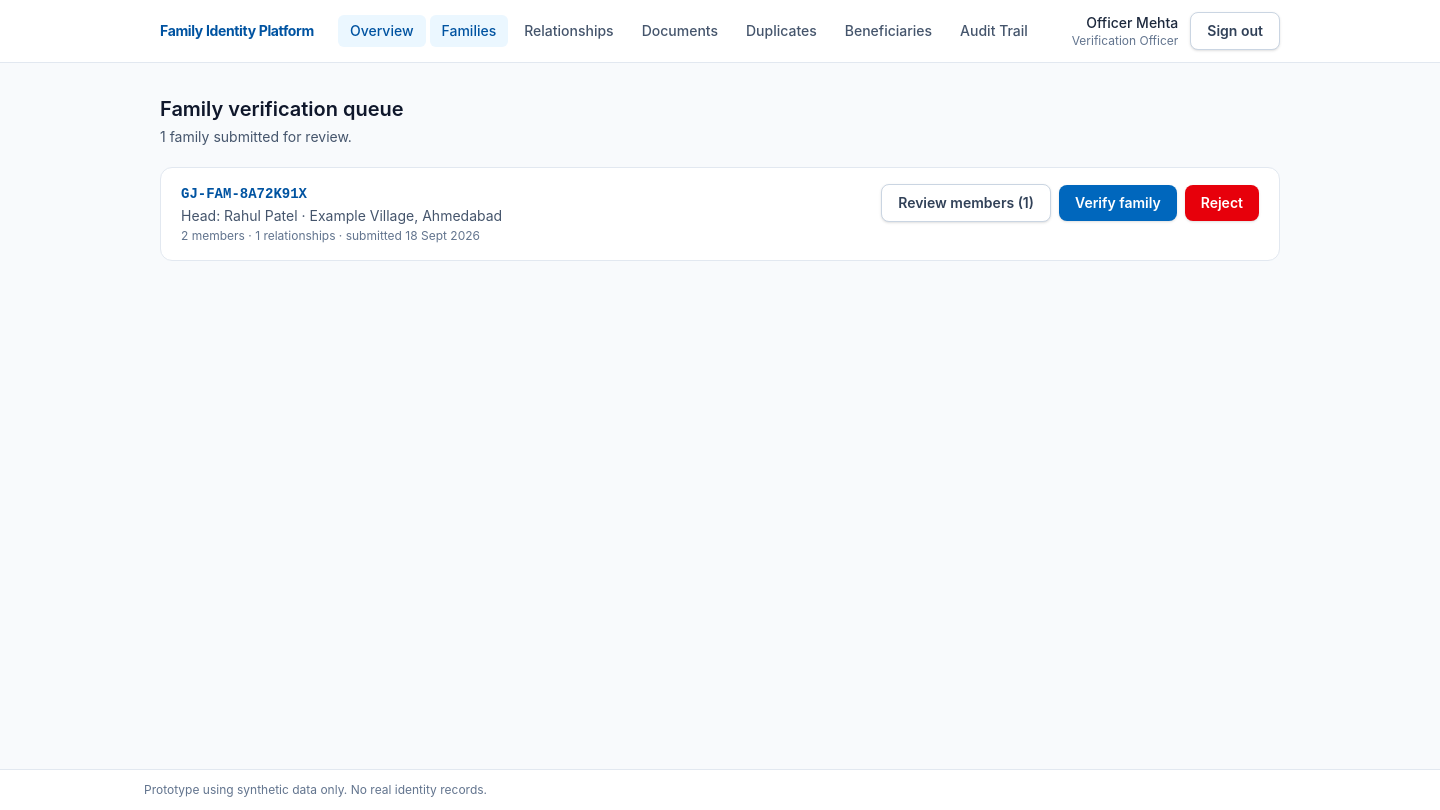
Test case: FamilyQueuePage › surfaces the refusal to verify a family with unverified members
Expected: the text "GJ-FAM-8A72K91X" is shown, x1=181 y1=186 x2=307 y2=202
Click the button "Verify family": coordinates (1118, 203) x1=1059 y1=185 x2=1177 y2=221
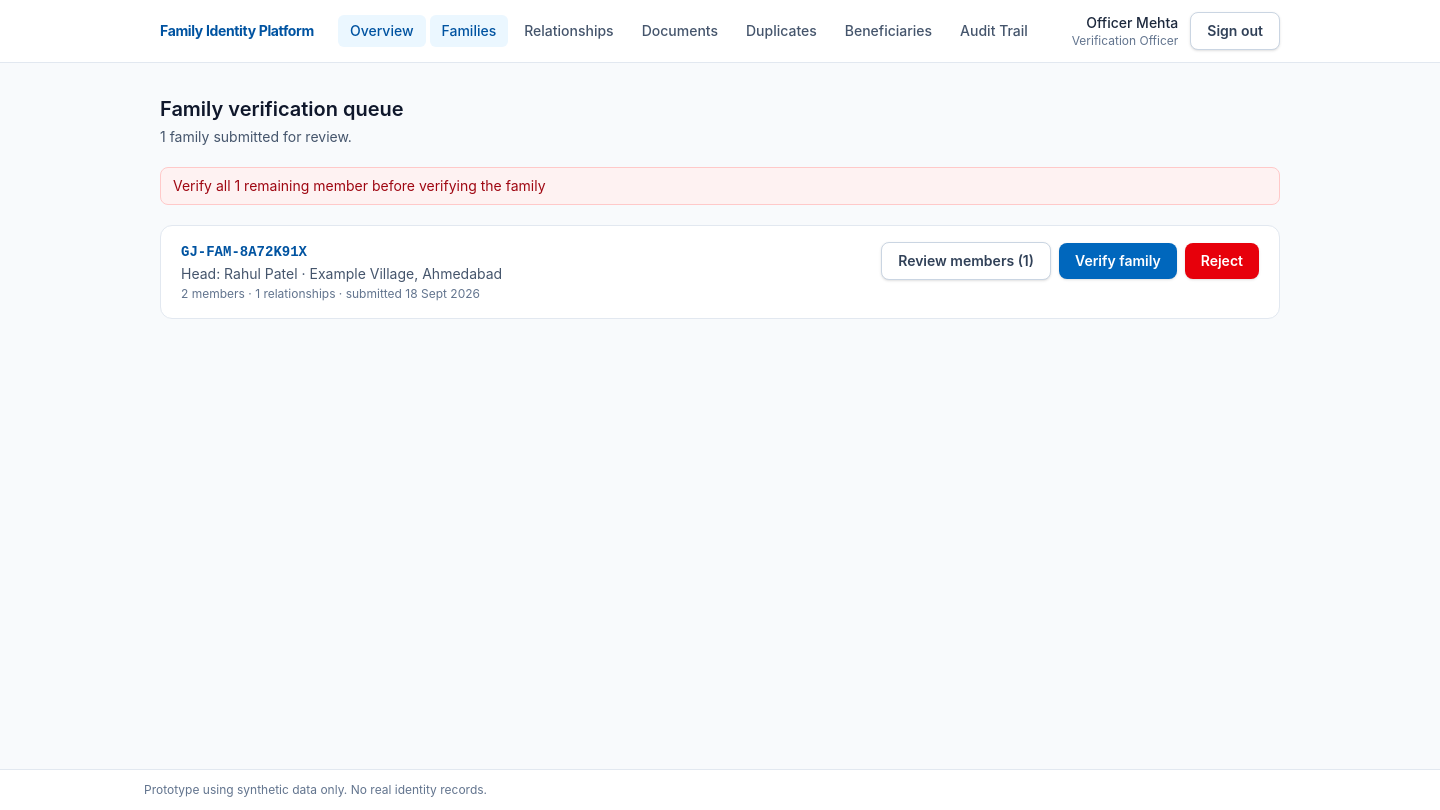
Expected: the text "GJ-FAM-8A72K91X" is shown, x1=181 y1=244 x2=307 y2=260
Expected: the message shows "remaining member", x1=173 y1=177 x2=546 y2=194
